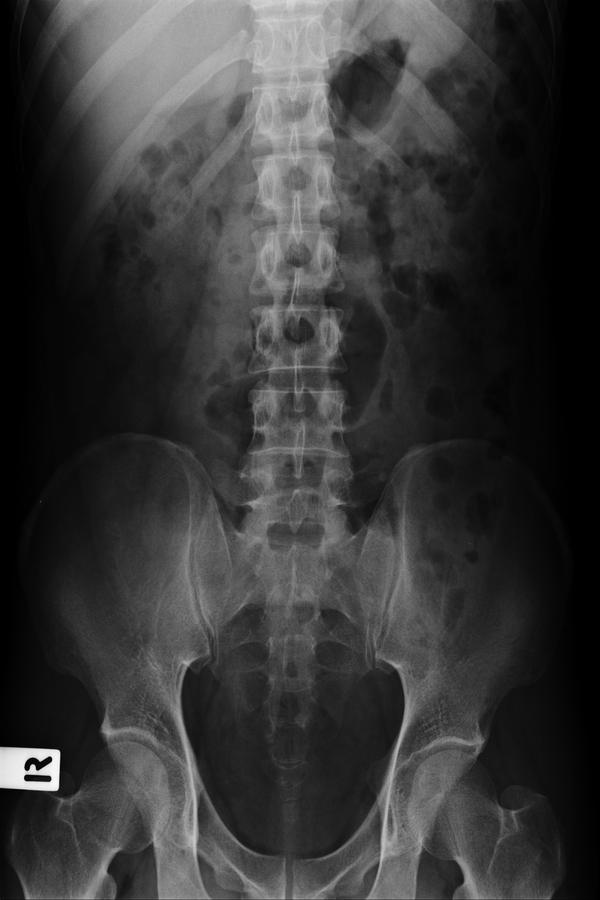not lumbar scoliosis: (238, 203, 363, 555)
